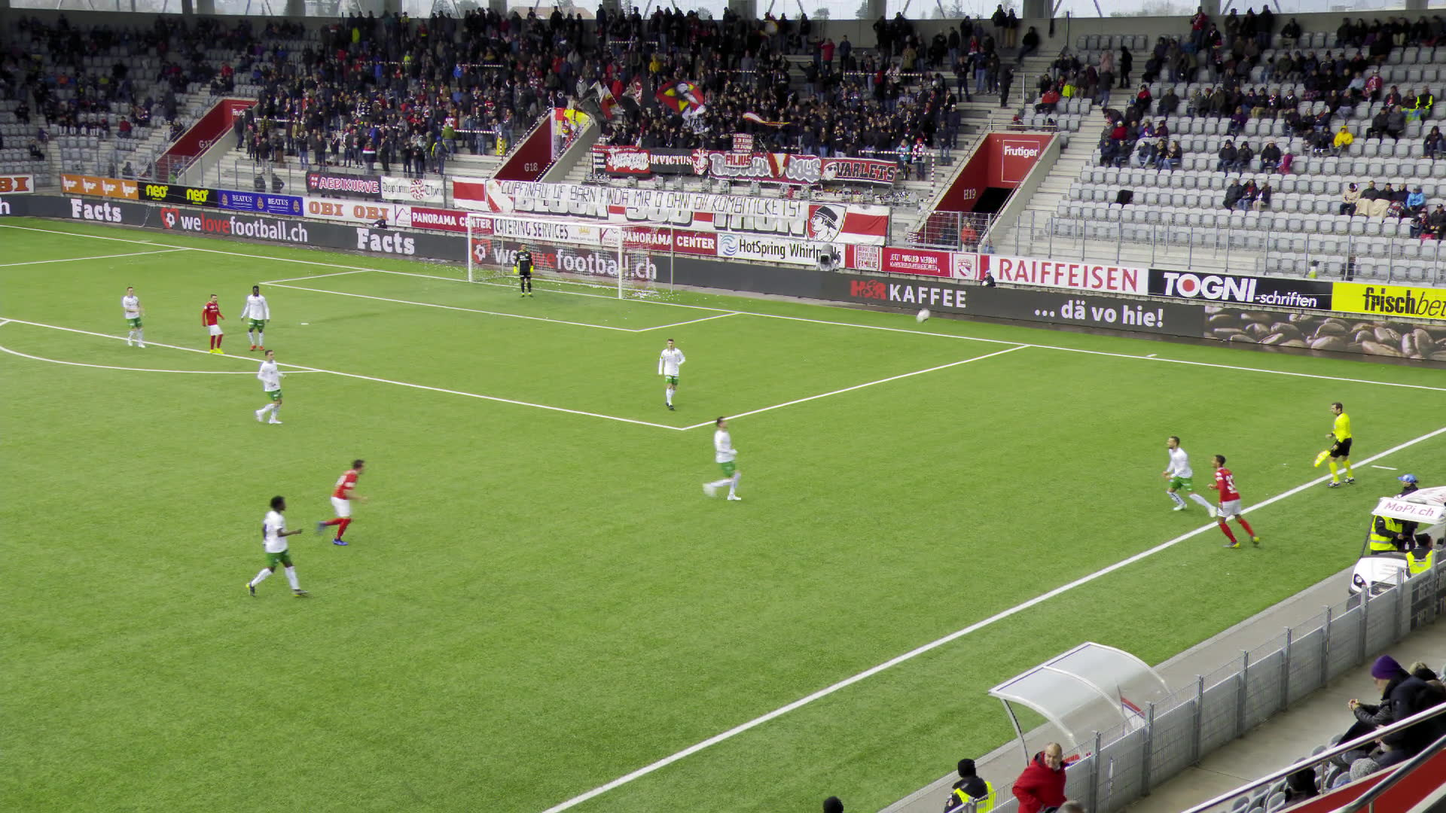ball: (921, 302, 937, 321)
player: (297, 457, 370, 545), (688, 414, 754, 499), (1209, 462, 1266, 547), (249, 495, 294, 598), (1161, 435, 1217, 516), (250, 346, 288, 423), (658, 338, 687, 409), (242, 285, 272, 350), (122, 286, 149, 348), (204, 293, 229, 355), (514, 242, 536, 298)
referee: (1311, 400, 1356, 489)
